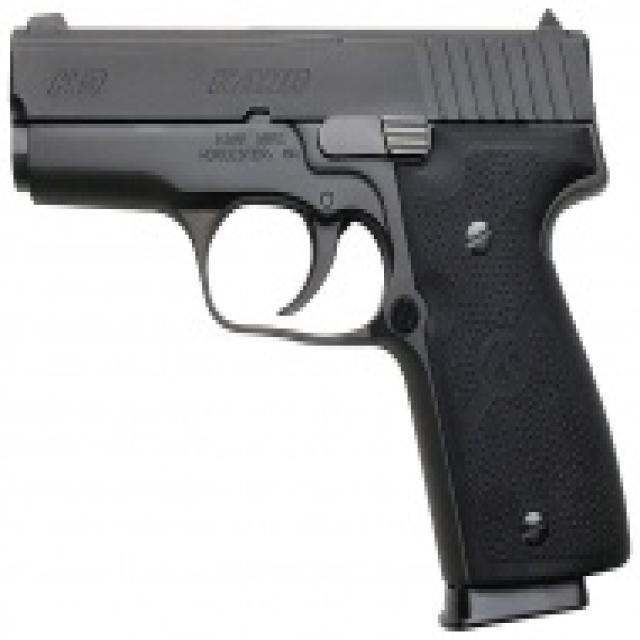pistol: (1, 5, 640, 640)
